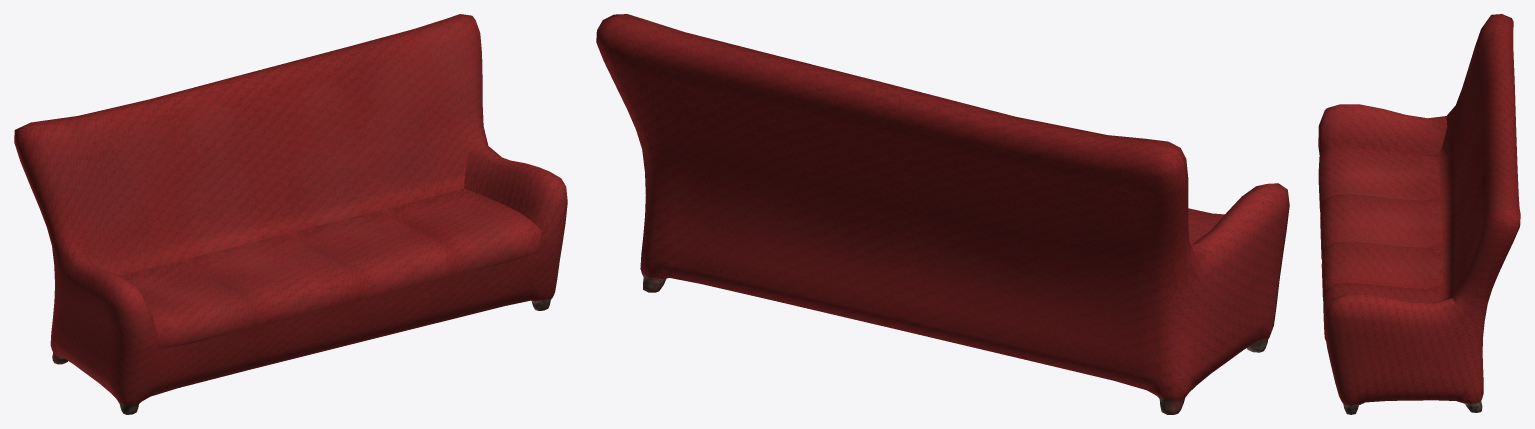
File: sofa_vi.fbx
The picture shows the model from 3 angles, left to right: view 1: azimuth 30°, elevation 25°; view 2: azimuth 150°, elevation 25°; view 3: azimuth 270°, elevation 25°; orthographic projection. The views are drawn at different scales.
Visible parts, largest first — view 1: Sofa; view 2: Sofa; view 3: Sofa.
Boxes of the visible parts, x1,y1,x2,y2 form: Sofa: (14, 14, 567, 414); Sofa: (596, 14, 1289, 414); Sofa: (1318, 14, 1520, 414).
Bounding box in the file's own units: 0.0312 × 0.0148 × 0.013.
1 material, 1 textured.
